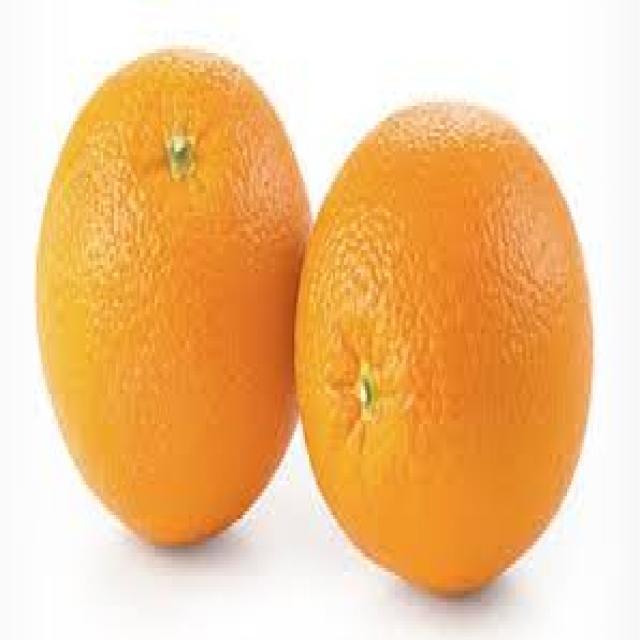organic waste: (290, 98, 591, 594), (34, 46, 316, 546)
